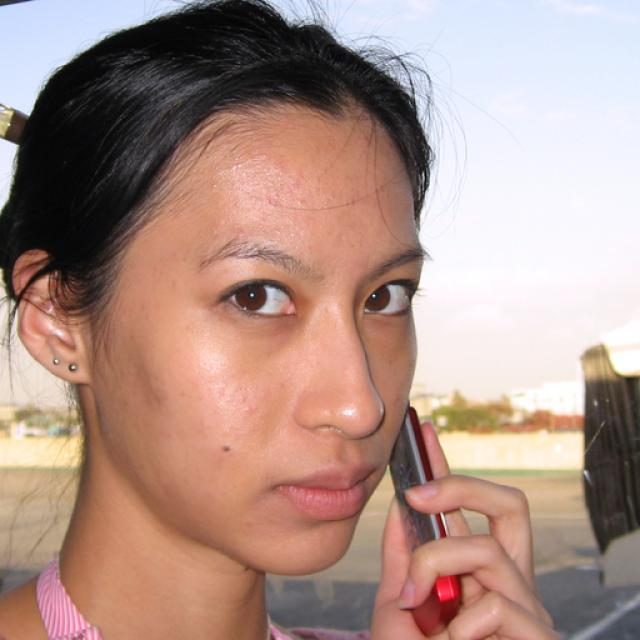neutral: (101, 112, 421, 578)
